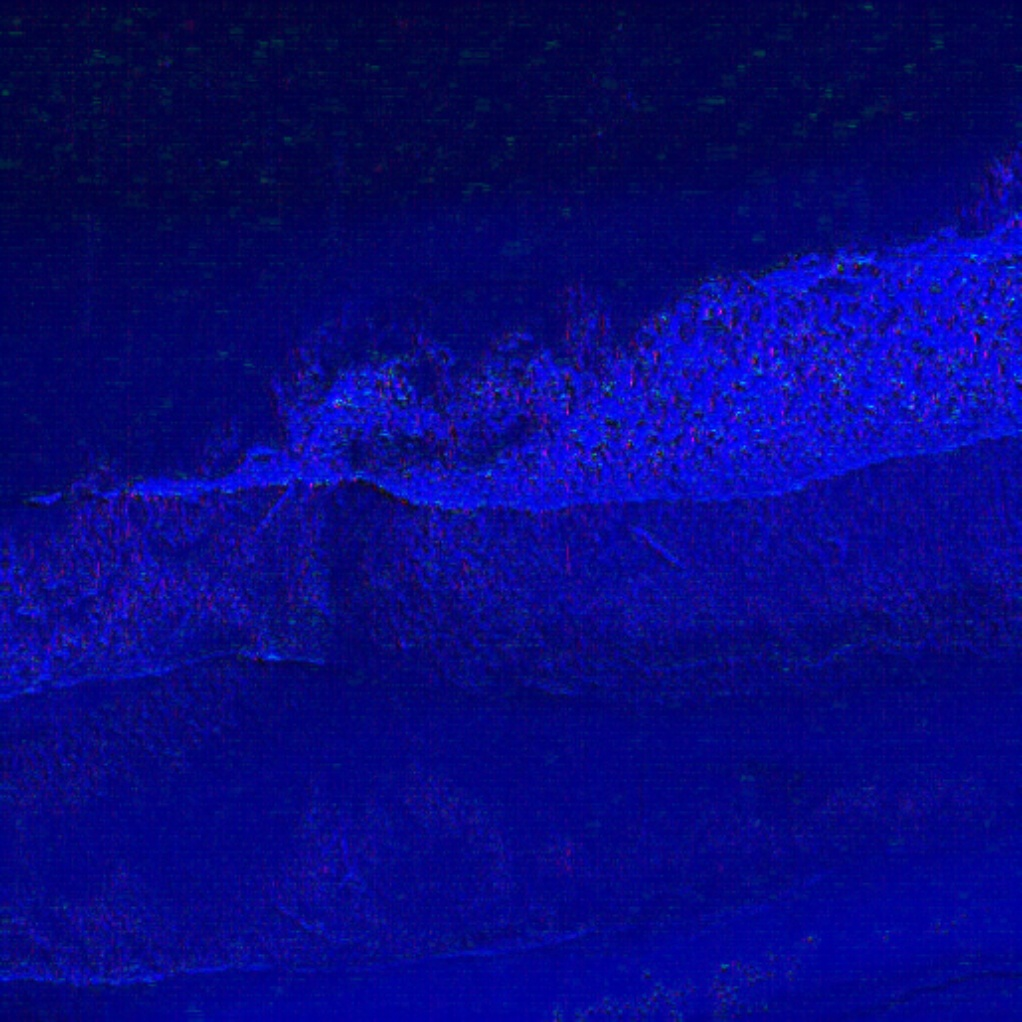rip_current: (231, 349, 564, 669)
